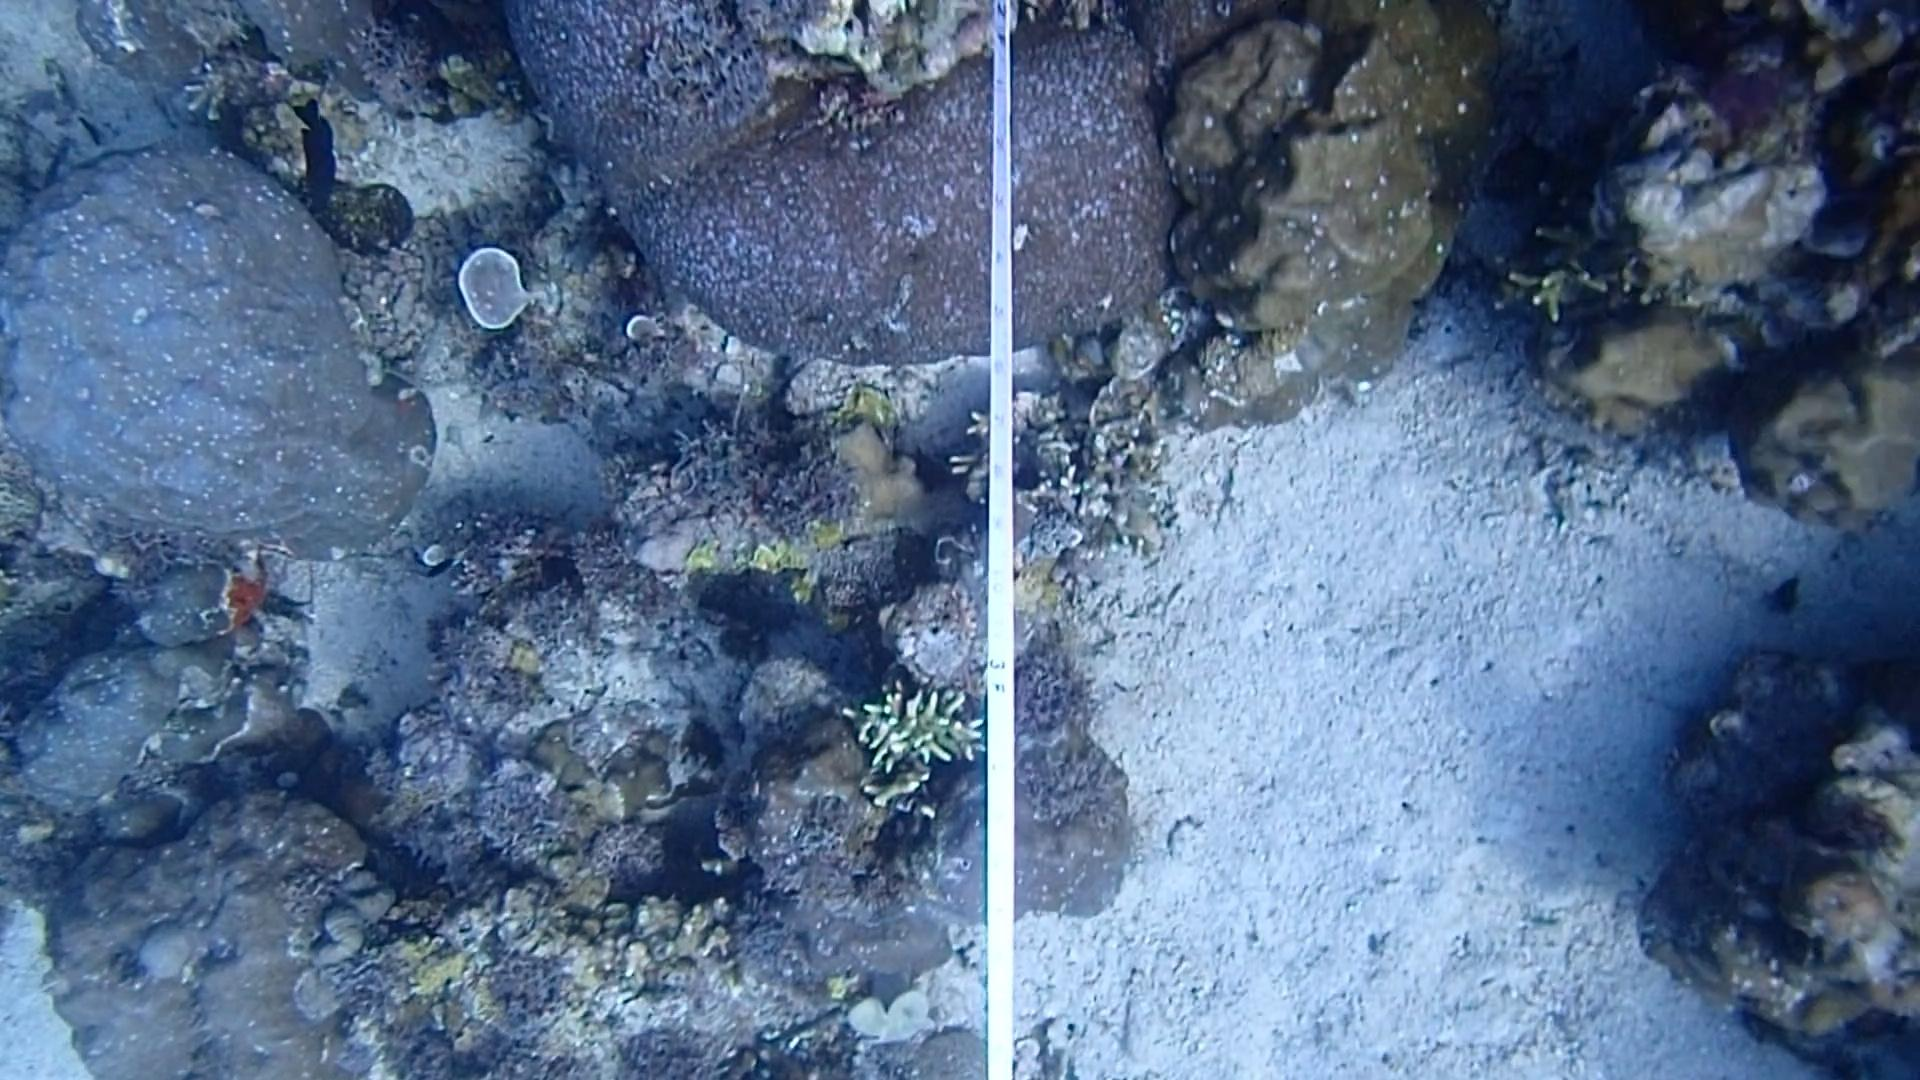Dark Fish: (280, 86, 351, 214)
